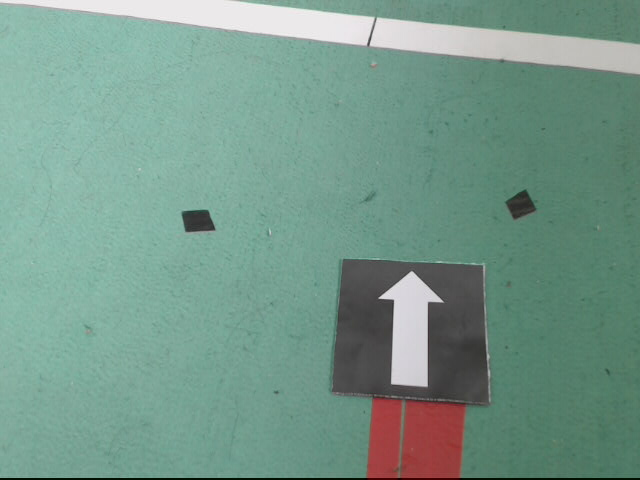straight: (333, 260, 492, 402)
